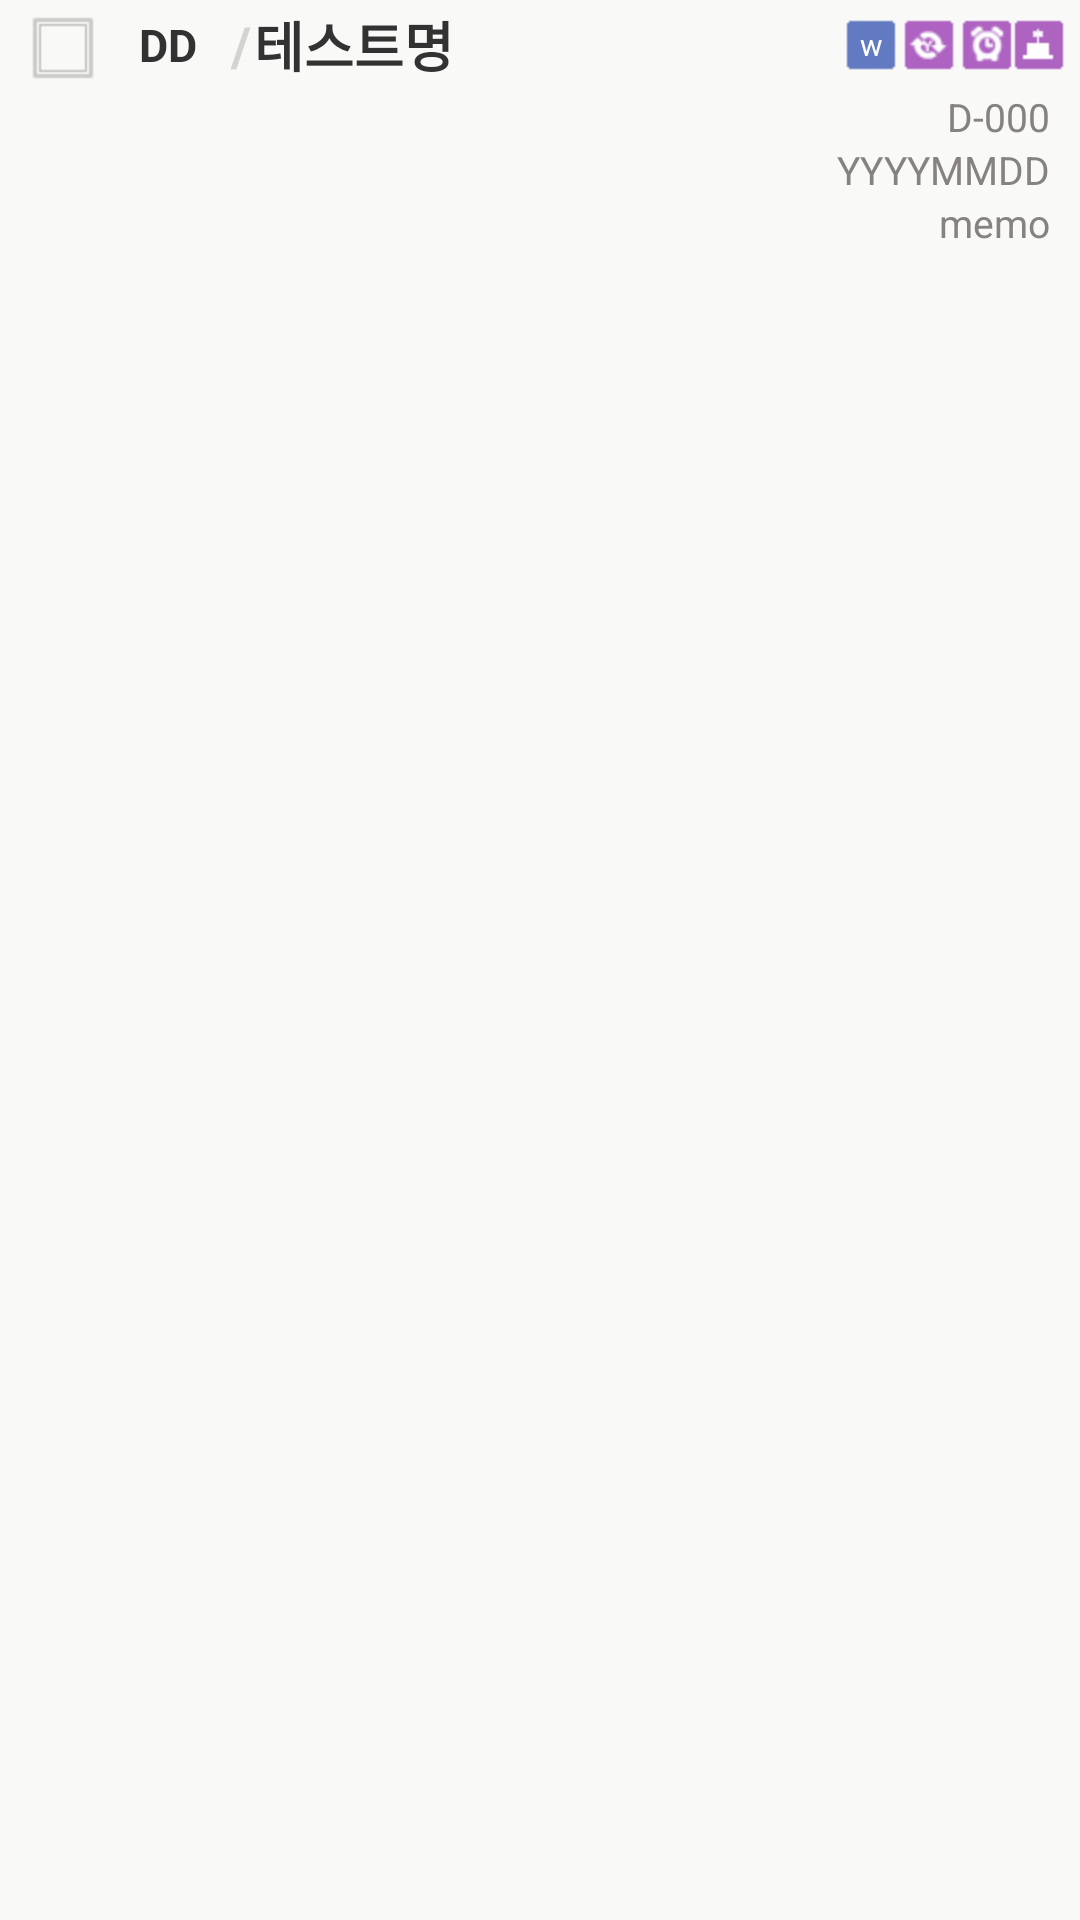

Screen size 1080×1920. Icon name, then its center in pixels as [x,y]:
event anniversary: [1039,45]
list alarm: [987,45]
list repeat foryear: [929,45]
